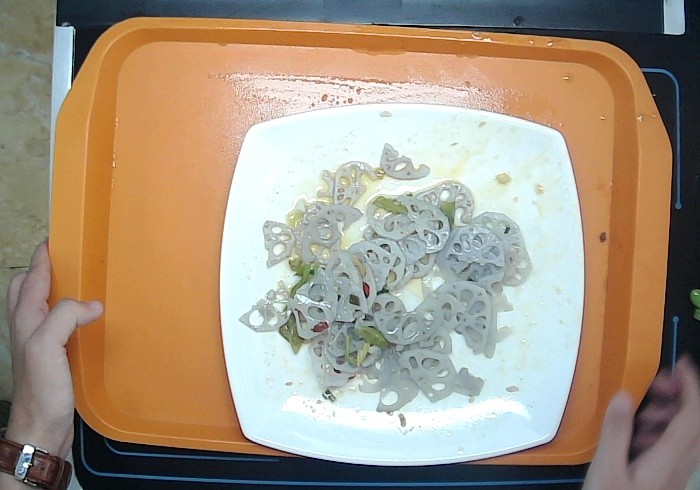ZNLD-Bai_Fang_Pan: (216, 100, 588, 467)
